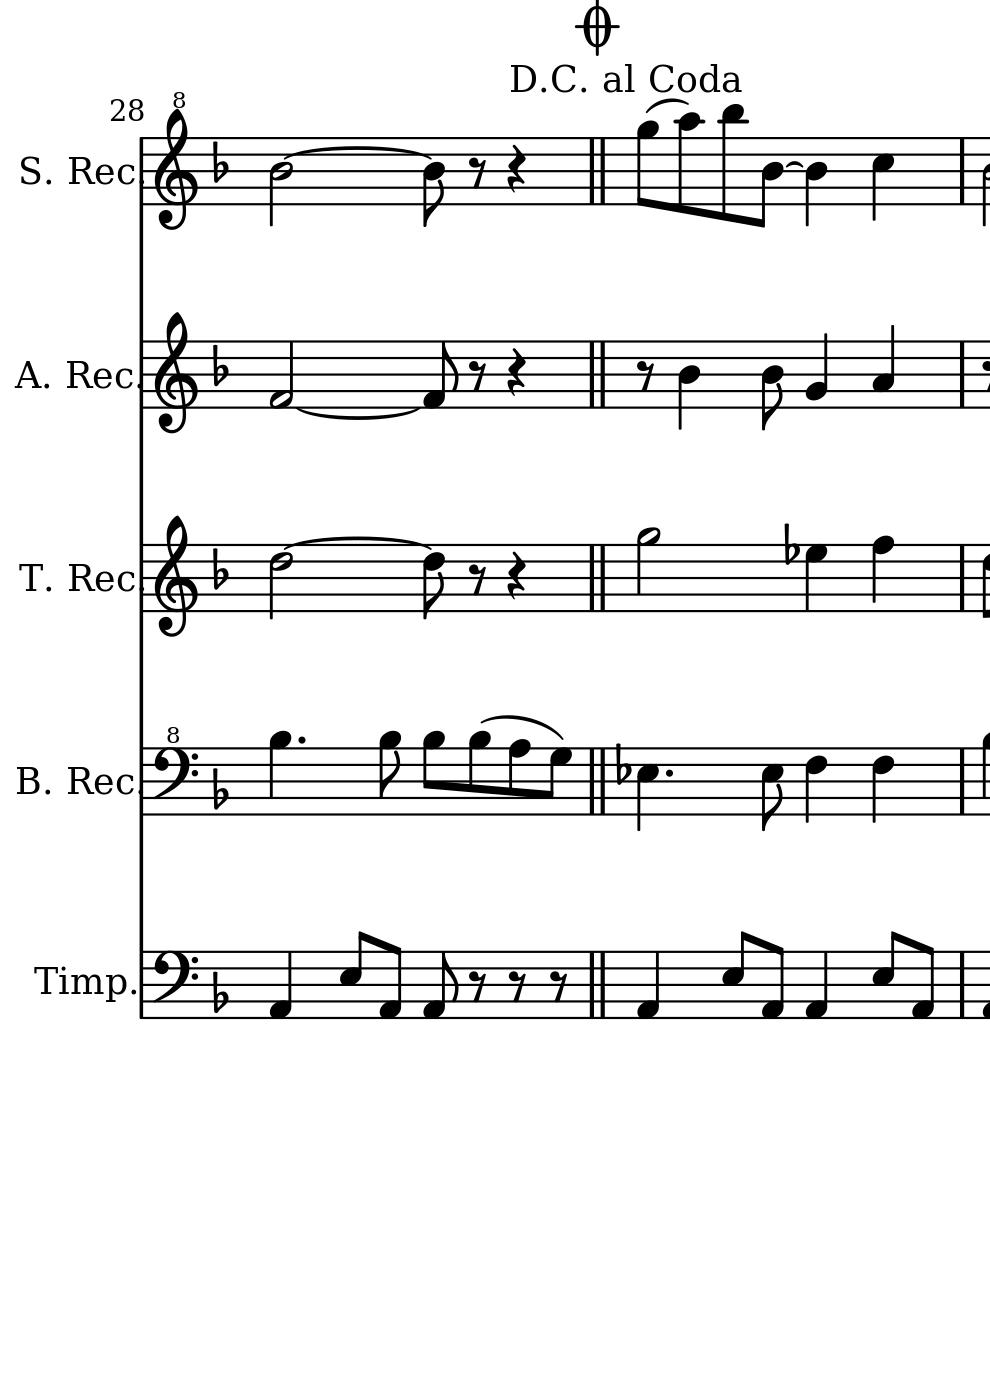2: (108, 97, 126, 124)
2_1: (266, 340, 297, 411)
2_4: (267, 136, 295, 229)
2_6: (267, 543, 295, 620)
2_9: (634, 526, 662, 615)
4_1: (267, 950, 295, 1021), (634, 950, 662, 1021), (802, 950, 830, 1021)
4_2: (804, 331, 829, 410)
4_3: (870, 323, 896, 411)
4_4: (802, 136, 829, 230), (676, 338, 702, 432)
4_5: (635, 746, 661, 836), (870, 136, 896, 224)
4_6: (802, 747, 828, 825), (870, 747, 895, 825)
4_7: (804, 543, 829, 613)
4_8: (870, 535, 896, 616)
4_9: (268, 729, 292, 817)
8: (125, 95, 145, 124)
8_1: (421, 340, 460, 410), (421, 951, 460, 1020), (909, 940, 936, 1022), (759, 940, 786, 1021), (376, 940, 403, 1022)
8_10: (675, 112, 704, 217)
8_11: (718, 104, 747, 225)
8_4: (753, 136, 784, 231), (759, 338, 785, 434), (420, 136, 447, 229)
8_5: (337, 929, 369, 1021), (720, 929, 751, 1021), (870, 930, 901, 1021), (759, 746, 784, 834)
8_6: (420, 541, 447, 621)
8_7: (544, 747, 573, 817)
8_8: (507, 738, 531, 817)
8_9: (377, 731, 403, 817), (421, 731, 446, 817), (635, 120, 659, 210), (467, 731, 491, 818)
Coda: (575, 1, 617, 54)
DCalCoda: (507, 58, 739, 97)
Double_barline: (583, 950, 609, 1020), (584, 338, 609, 410), (586, 542, 611, 611), (584, 748, 609, 815), (585, 136, 607, 205)
Fclef: (150, 948, 199, 1022)
Flat: (210, 546, 230, 592), (210, 342, 230, 387), (210, 767, 230, 811), (210, 970, 229, 1017), (210, 139, 229, 184), (613, 741, 631, 787), (781, 521, 799, 566)
Gclef: (152, 310, 199, 438), (152, 513, 198, 639), (152, 105, 197, 230)
High_Fclef: (150, 721, 198, 819)
Rec: (65, 764, 136, 797), (63, 359, 134, 391), (66, 562, 135, 594), (66, 155, 135, 186)
Rests4: (505, 550, 528, 603), (504, 346, 527, 398), (505, 144, 527, 195)
Rests8: (634, 359, 657, 394), (467, 359, 489, 394), (547, 969, 570, 1003), (466, 155, 487, 189), (467, 969, 487, 1003), (467, 563, 487, 596), (507, 969, 527, 1002)
Single_barline: (952, 544, 972, 612), (952, 341, 971, 408), (952, 951, 971, 1019), (952, 138, 971, 205), (952, 749, 971, 814), (135, 137, 152, 206), (135, 544, 152, 613), (134, 952, 151, 1019), (135, 341, 151, 410), (135, 748, 151, 815)
Slur: (279, 145, 433, 162), (479, 716, 565, 743), (282, 536, 432, 550), (292, 409, 421, 420), (643, 97, 691, 114), (785, 159, 804, 170)
Timp: (28, 962, 126, 1007)
dot: (294, 733, 307, 746), (662, 767, 675, 780)
